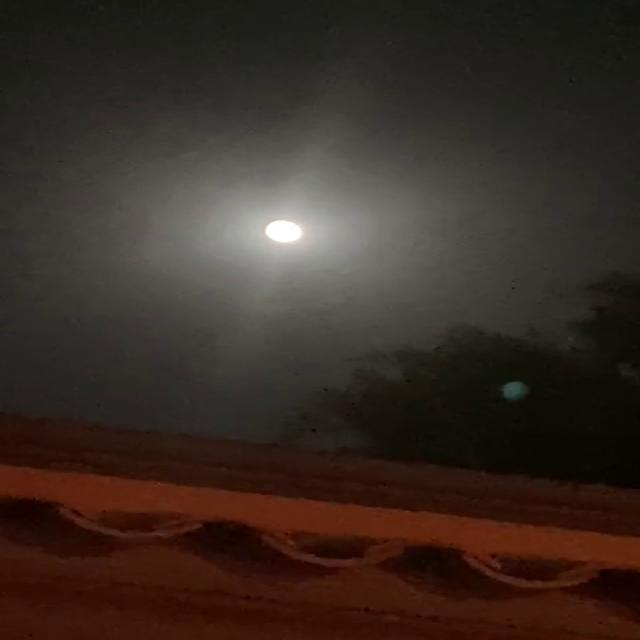moon: (258, 212, 318, 250)
